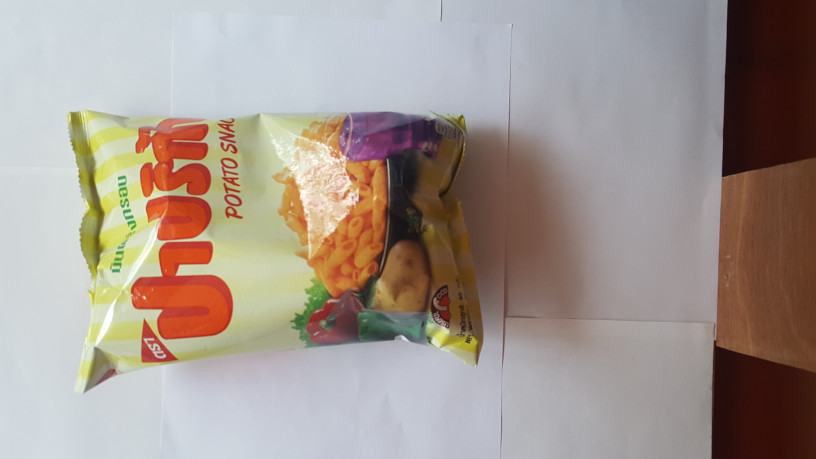paprika: (38, 93, 497, 390)
